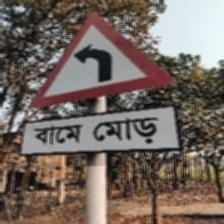Left-Turn: (21, 10, 179, 156)
